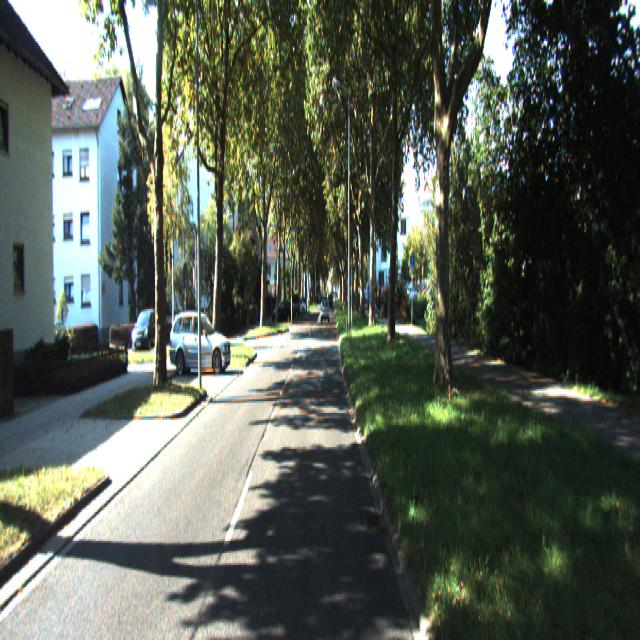Car: (165, 316, 232, 380)
